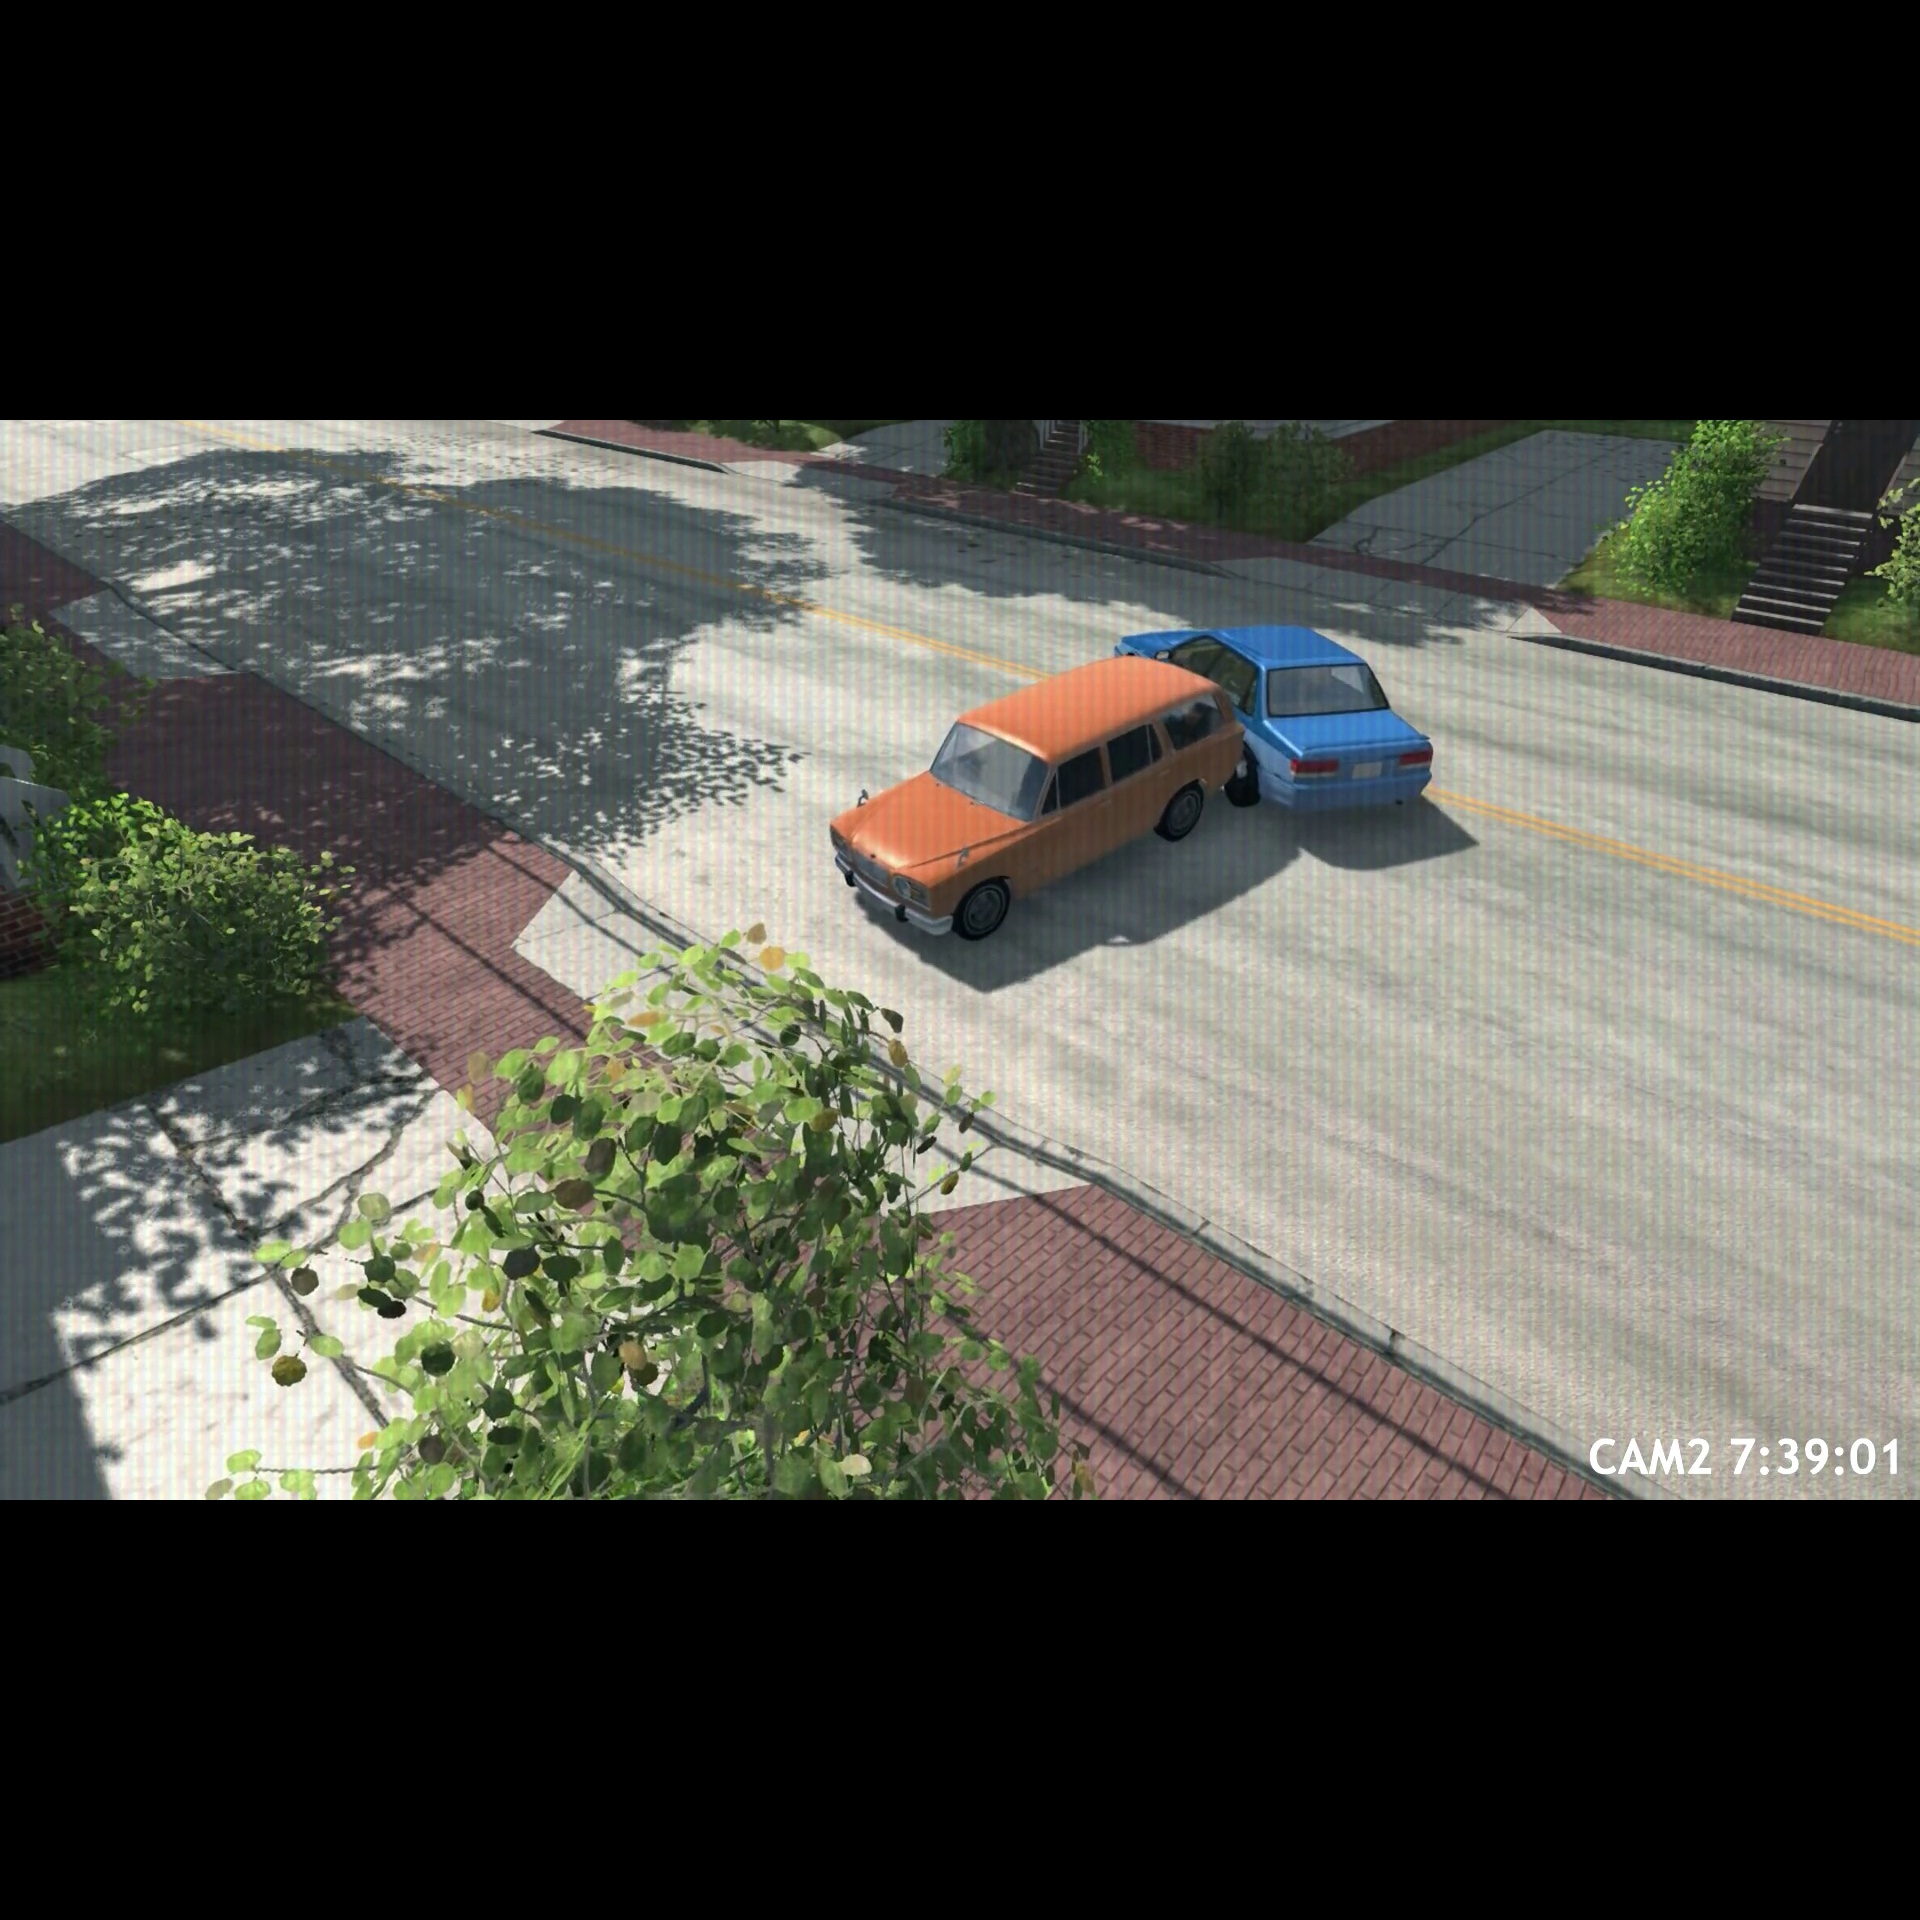vehicle: (823, 656, 1236, 956), (1111, 615, 1436, 832)
